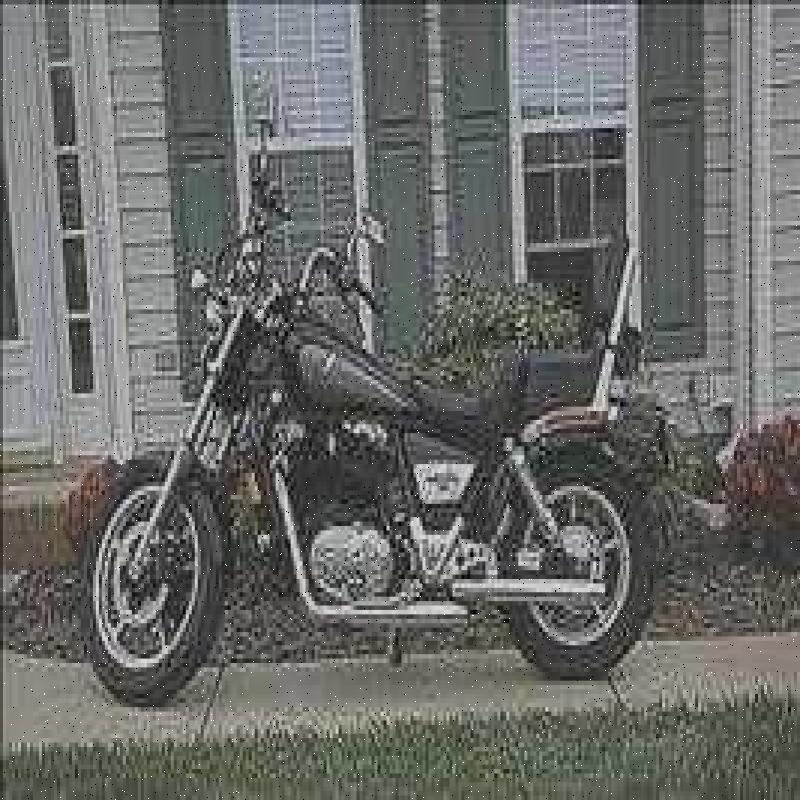bike: (82, 123, 707, 702)
